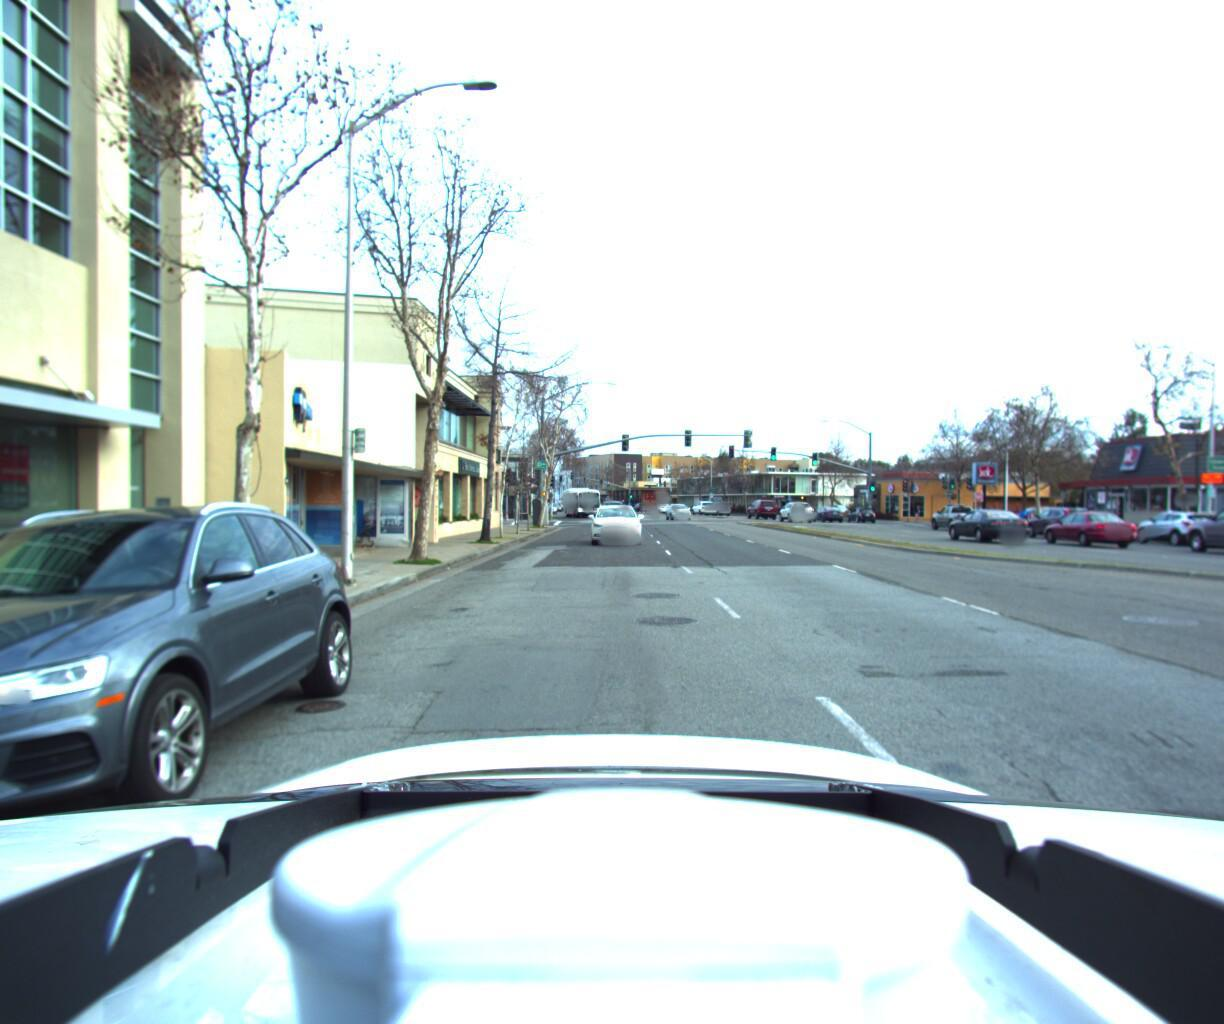car: (1127, 505, 1224, 548), (1029, 509, 1127, 545), (1166, 497, 1224, 555), (934, 508, 1019, 542), (1015, 503, 1094, 536), (589, 502, 642, 544), (925, 501, 981, 529), (774, 500, 812, 521), (746, 498, 778, 517), (807, 504, 842, 521), (667, 503, 696, 521), (840, 503, 871, 519)
